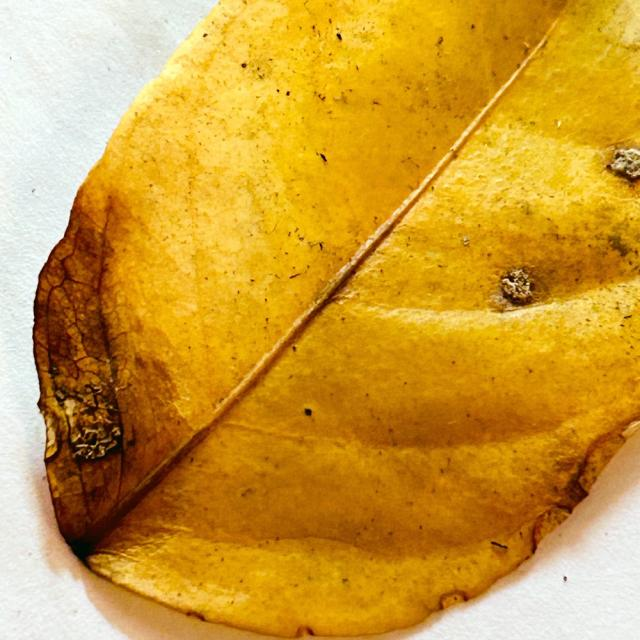DryLeaf_Lemon: (34, 0, 639, 637)
